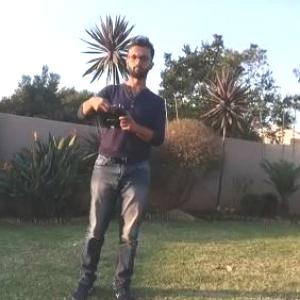follow: (64, 28, 170, 299)
